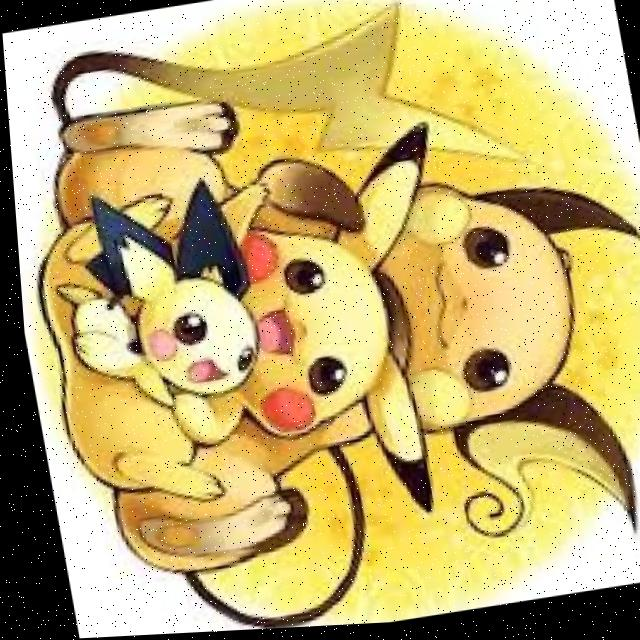pichu: (27, 190, 272, 445)
